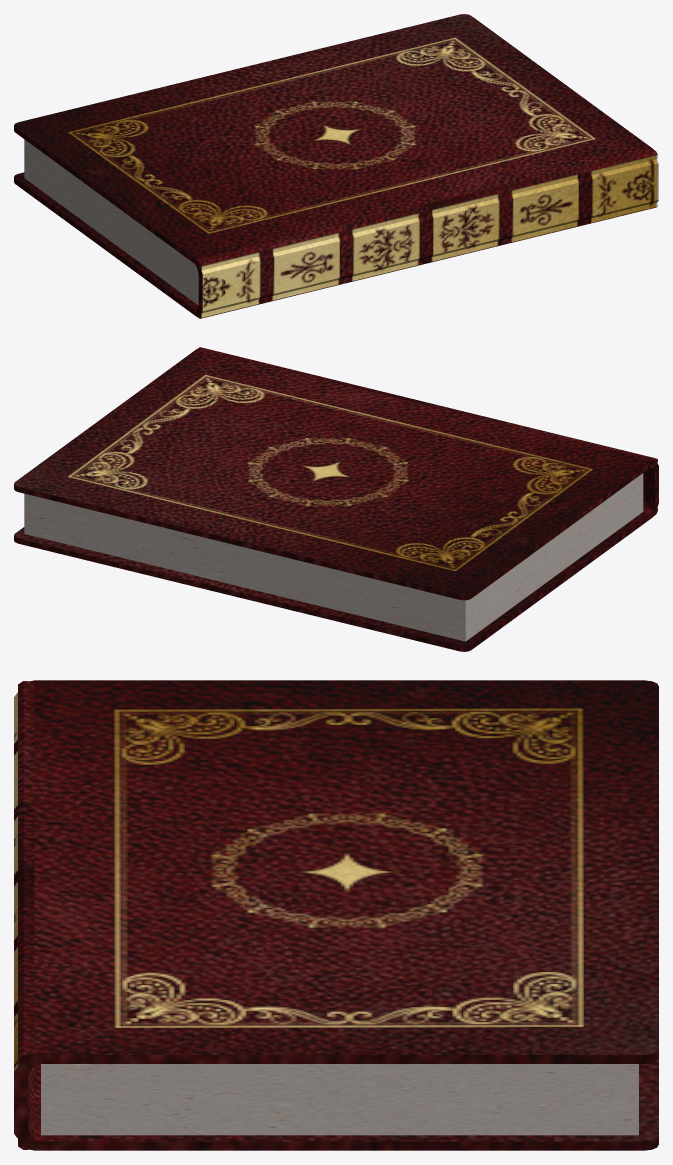
File: Livre_Rouge_Low_3.gltf
3 renders of one model, top to bottom at view 1: azimuth 30°, elevation 25°; view 2: azimuth 150°, elevation 25°; view 3: azimuth 270°, elevation 25°, orthographic. The views are drawn at different scales.
Visible parts, largest first — view 1: Cover, Book; view 2: Cover, Book; view 3: Cover, Book.
Part boxes in pixels (x1,y1,x2,y2): Cover: (14, 14, 658, 318); Book: (24, 139, 198, 305); Cover: (14, 347, 658, 651); Book: (24, 473, 643, 641); Cover: (14, 680, 658, 1150); Book: (41, 1064, 638, 1135).
Size of the model in its own units: 0.3076 by 0.0366 by 0.2239.
2 materials, 2 textured.
